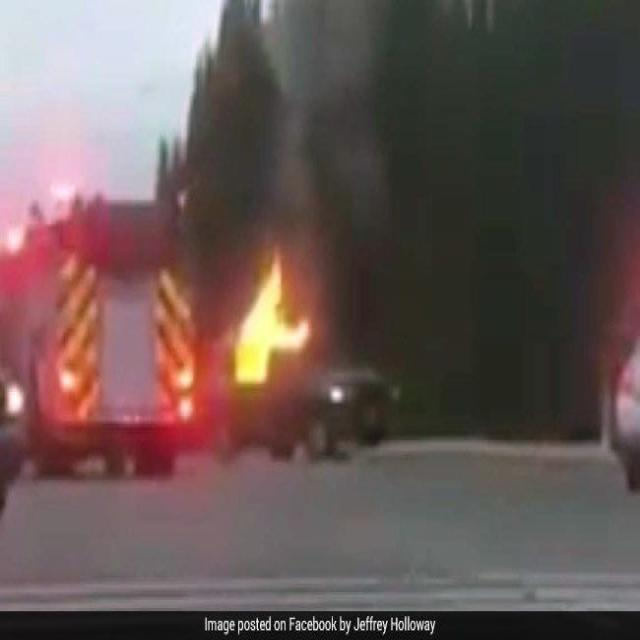Fire: (233, 262, 309, 372)
Smoke: (265, 35, 378, 276)
